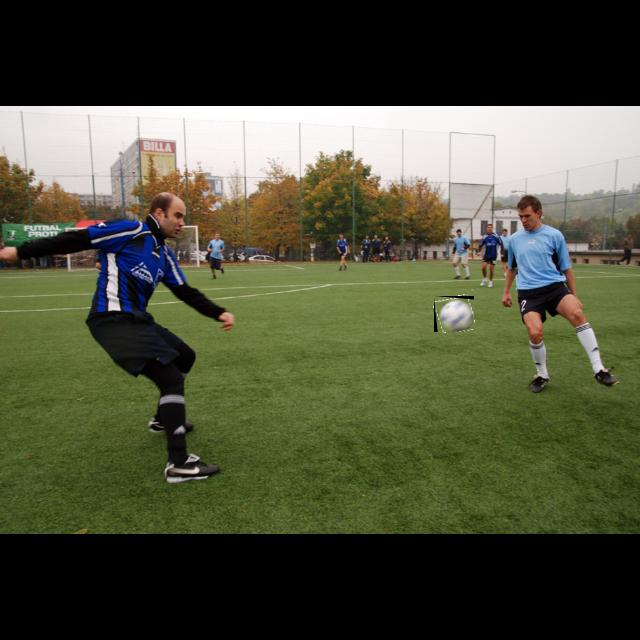Football: (434, 296, 474, 332)
